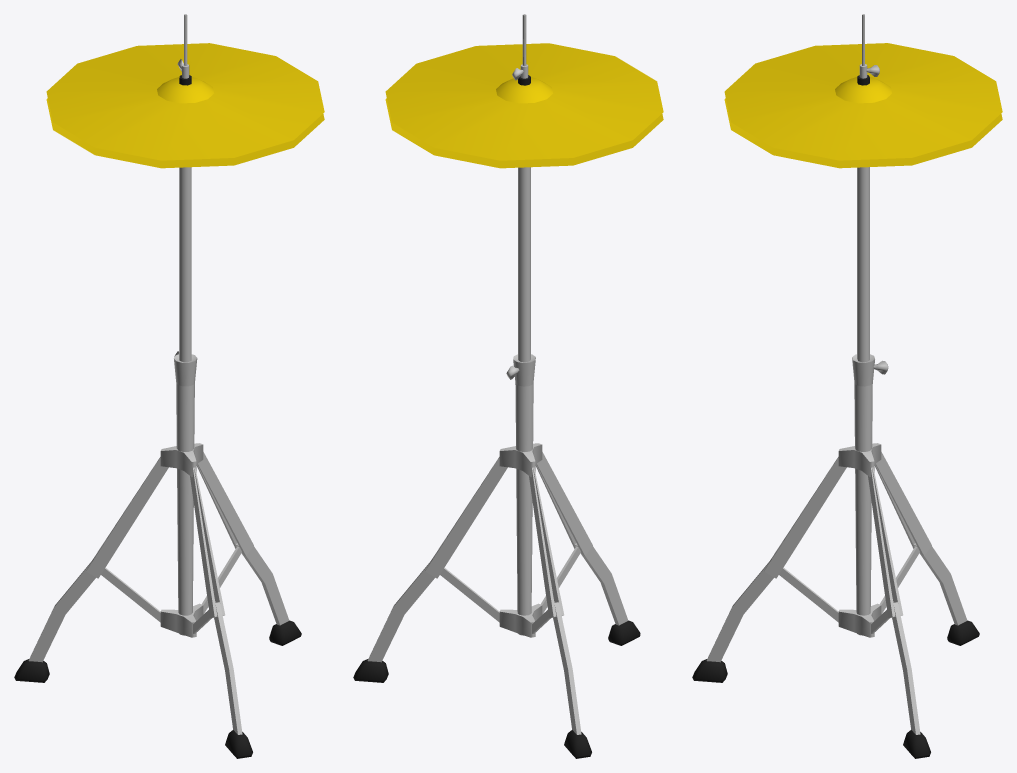
File: RockSceneDoubleCymbol.fbx
3 renders of one model, left to right at view 1: azimuth 30°, elevation 25°; view 2: azimuth 150°, elevation 25°; view 3: azimuth 270°, elevation 25°, orthographic.
Parts seen in each view (by area): view 1: DoubleCymbol_TopCy, DoubleCymbol_Legs, DoubleCymbol_Post, DoubleCymbol_2CyPost, DoubleCymbol_BottomCy; view 2: DoubleCymbol_TopCy, DoubleCymbol_Legs, DoubleCymbol_Post, DoubleCymbol_2CyPost, DoubleCymbol_BottomCy; view 3: DoubleCymbol_TopCy, DoubleCymbol_Legs, DoubleCymbol_Post, DoubleCymbol_2CyPost, DoubleCymbol_BottomCy.
Boxes of the visible parts, box(x1,y1,x2,y2) form: DoubleCymbol_TopCy: box(46, 43, 324, 160); DoubleCymbol_Legs: box(14, 443, 301, 758); DoubleCymbol_Post: box(174, 351, 197, 635); DoubleCymbol_2CyPost: box(177, 14, 191, 362); DoubleCymbol_BottomCy: box(46, 98, 324, 168); DoubleCymbol_TopCy: box(385, 43, 663, 160); DoubleCymbol_Legs: box(353, 443, 640, 758); DoubleCymbol_Post: box(506, 354, 535, 635); DoubleCymbol_2CyPost: box(512, 14, 530, 362); DoubleCymbol_BottomCy: box(385, 98, 663, 168); DoubleCymbol_TopCy: box(724, 43, 1002, 160); DoubleCymbol_Legs: box(692, 443, 979, 758); DoubleCymbol_Post: box(852, 354, 888, 635); DoubleCymbol_2CyPost: box(857, 14, 879, 362); DoubleCymbol_BottomCy: box(724, 98, 1002, 168).
Bounding box in the file's own units: 417 × 1023 × 426.
